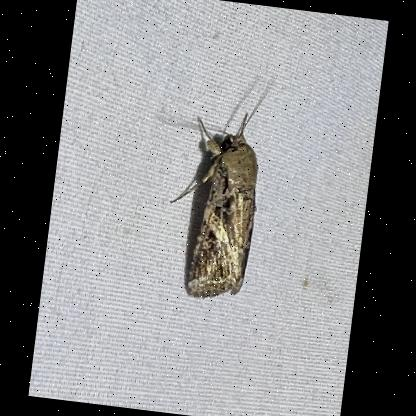Fall Armyworm Moth: (156, 100, 270, 306)
